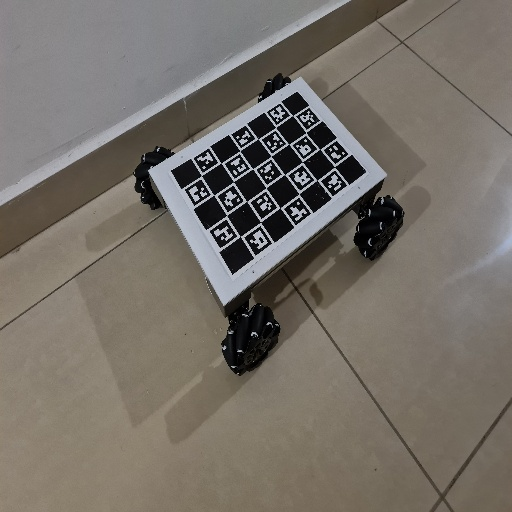Omniwheel: (132, 72, 406, 377)
